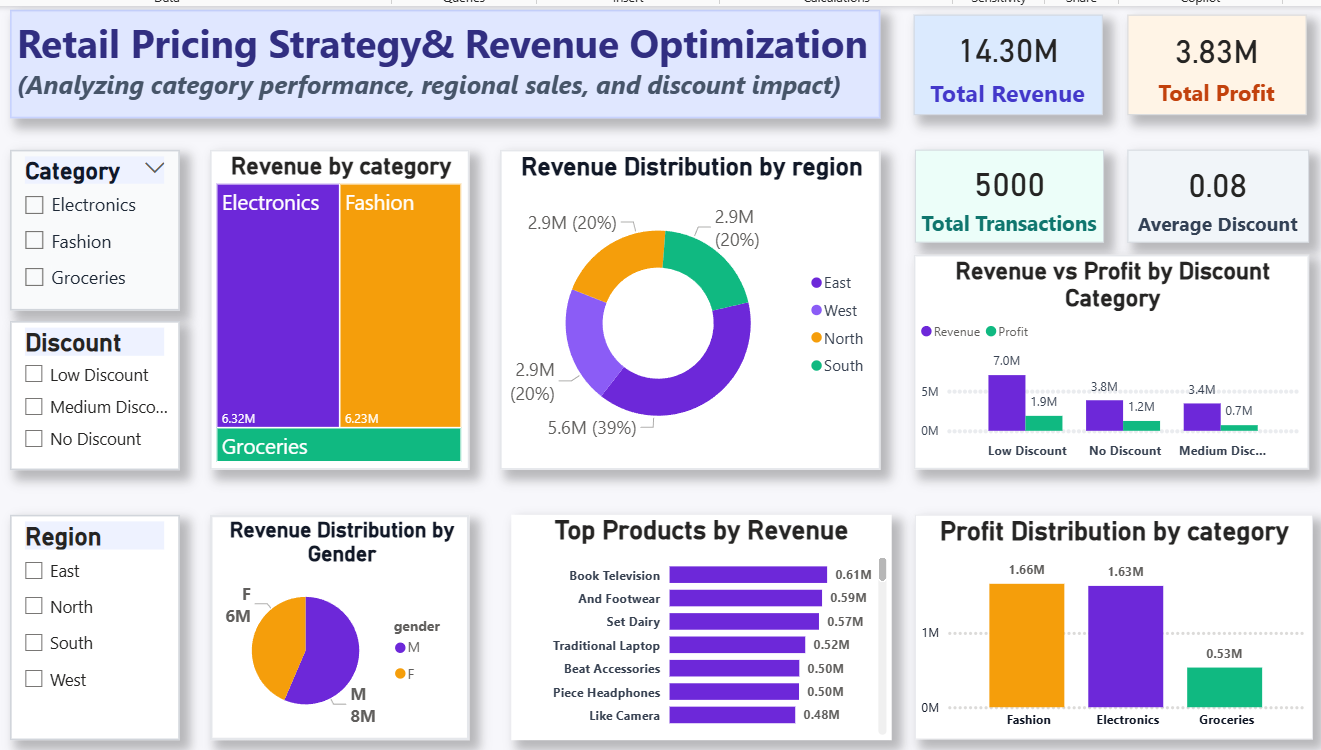

What the dashboard file says about the page in this screenshot:
{"tool":"powerbi","page":{"name":"dashboard","canvas":[1280,720],"ordinal":0},"visuals":[{"type":"textbox","box":[10,3.8,840,105],"z":0},{"type":"card","fields":{"Values":["Sum(retail powerbi from sql.revenue)"]},"box":[881.9,8.4,182.2,96.5],"z":1000},{"type":"card","fields":{"Values":["Sum(retail powerbi from sql.profit)"]},"box":[1088.2,8.4,172.5,96.5],"z":2000},{"type":"card","fields":{"Values":["CountNonNull(retail powerbi from sql.transactionid)"]},"box":[883.1,138.7,182.2,89.3],"z":3000},{"type":"card","fields":{"Values":["Avg(retail powerbi from sql.discount)"]},"box":[1088.2,138.7,174.9,89.3],"z":4000},{"type":"slicer","fields":{"Values":["retail powerbi from sql.category"]},"box":[10,138.8,163.8,155],"z":5000},{"type":"slicer","fields":{"Values":["retail powerbi from sql.region"]},"box":[10,491.2,163.8,217.5],"z":6000},{"type":"slicer","fields":{"Values":["retail powerbi from sql.discount category"]},"box":[10,303.8,163.8,143.8],"z":7000},{"type":"treemap","fields":{"Values":["Sum(retail powerbi from sql.revenue)"],"Group":["retail powerbi from sql.category"]},"box":[202.5,138.8,250,308.8],"z":8000},{"type":"donutChart","title":"Revenue Distribution by region","fields":{"Category":["retail powerbi from sql.region"],"Y":["Sum(retail powerbi from sql.revenue)"]},"box":[481.4,138.7,368,308.8],"z":9000},{"type":"clusteredBarChart","title":"Top Products by Revenue","fields":{"Category":["retail powerbi from sql.productname"],"Y":["Sum(retail powerbi from sql.revenue)"]},"box":[481.4,491,368,217.2],"z":10000},{"type":"columnChart","title":"Profit Distribution by category","fields":{"Category":["retail powerbi from sql.category"],"Y":["Sum(retail powerbi from sql.profit)"]},"box":[883.1,491,383.6,217.2],"z":11000},{"type":"clusteredColumnChart","title":"Revenue vs Profit by  Discount Category","fields":{"Category":["retail powerbi from sql.discount category"],"Y":["Sum(retail powerbi from sql.revenue)","Sum(retail powerbi from sql.profit)"]},"box":[881.9,240.1,381.2,207.5],"z":12000},{"type":"pieChart","title":"Revenue Distribution by Gender","fields":{"Category":["retail powerbi from sql.gender"],"Y":["Sum(retail powerbi from sql.revenue)"]},"box":[202.5,491.2,250,217.5],"z":13000}]}

Visuals, with their boxes on the page's 1280x720 design canvas (x1, y1, x2, y2). These are canvas units, not pixel positions in the 1321x750 screenshot, which may show the page scaled, cropped or inside an application window:
textbox: bbox(10, 4, 850, 109)
card - Sum(retail powerbi from sql.revenue): bbox(882, 8, 1064, 105)
card - Sum(retail powerbi from sql.profit): bbox(1088, 8, 1261, 105)
card - CountNonNull(retail powerbi from sql.transactionid): bbox(883, 139, 1065, 228)
card - Avg(retail powerbi from sql.discount): bbox(1088, 139, 1263, 228)
slicer - retail powerbi from sql.category: bbox(10, 139, 174, 294)
slicer - retail powerbi from sql.region: bbox(10, 491, 174, 709)
slicer - retail powerbi from sql.discount category: bbox(10, 304, 174, 448)
treemap - Sum(retail powerbi from sql.revenue) x retail powerbi from sql.category: bbox(202, 139, 452, 448)
"Revenue Distribution by region" donutChart: bbox(481, 139, 849, 448)
"Top Products by Revenue" clusteredBarChart: bbox(481, 491, 849, 708)
"Profit Distribution by category" columnChart: bbox(883, 491, 1267, 708)
"Revenue vs Profit by  Discount Category" clusteredColumnChart: bbox(882, 240, 1263, 448)
"Revenue Distribution by Gender" pieChart: bbox(202, 491, 452, 709)
